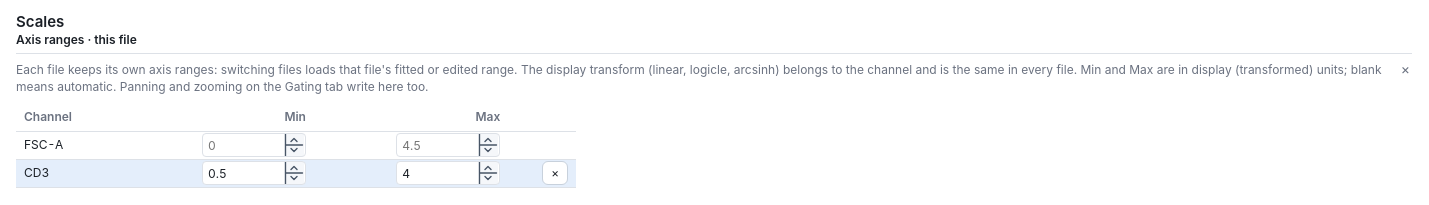
ScalesTab › hides the explanation with × and brings it back with ? by the title
Click the button named "Hide this explanation": [1405, 69] box left=1399, top=62, right=1412, bottom=76
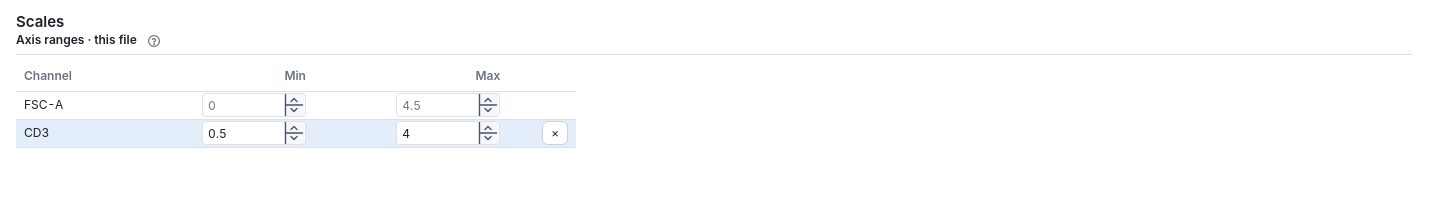
Expected: the element with class "gl-section-header" reads "Axis ranges · this file", left=16, top=32, right=137, bottom=47
Result: the text "Each file keeps its own axis ranges" is gone
Result: the button named "Show the explanation" is shown
Click the button named "Show the explanation": [154, 41] box left=145, top=32, right=163, bottom=50
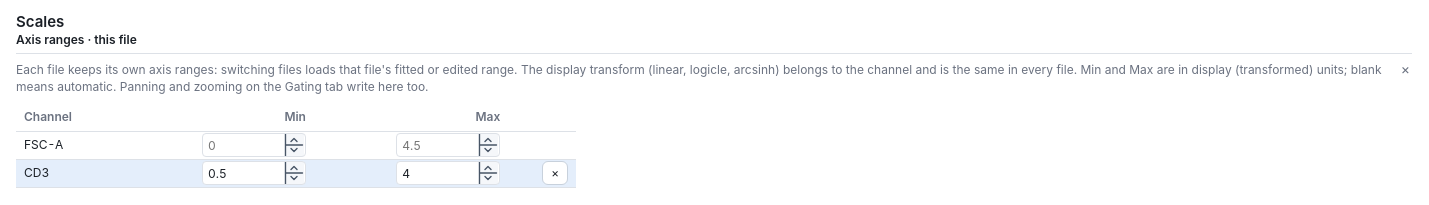
Result: the text "Each file keeps its own axis ranges" is shown at left=16, top=62, right=1382, bottom=94
